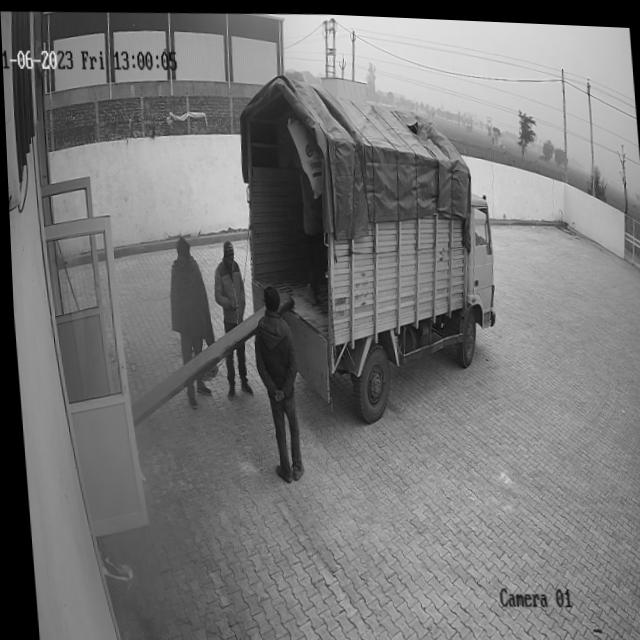sack: (284, 111, 326, 197)
